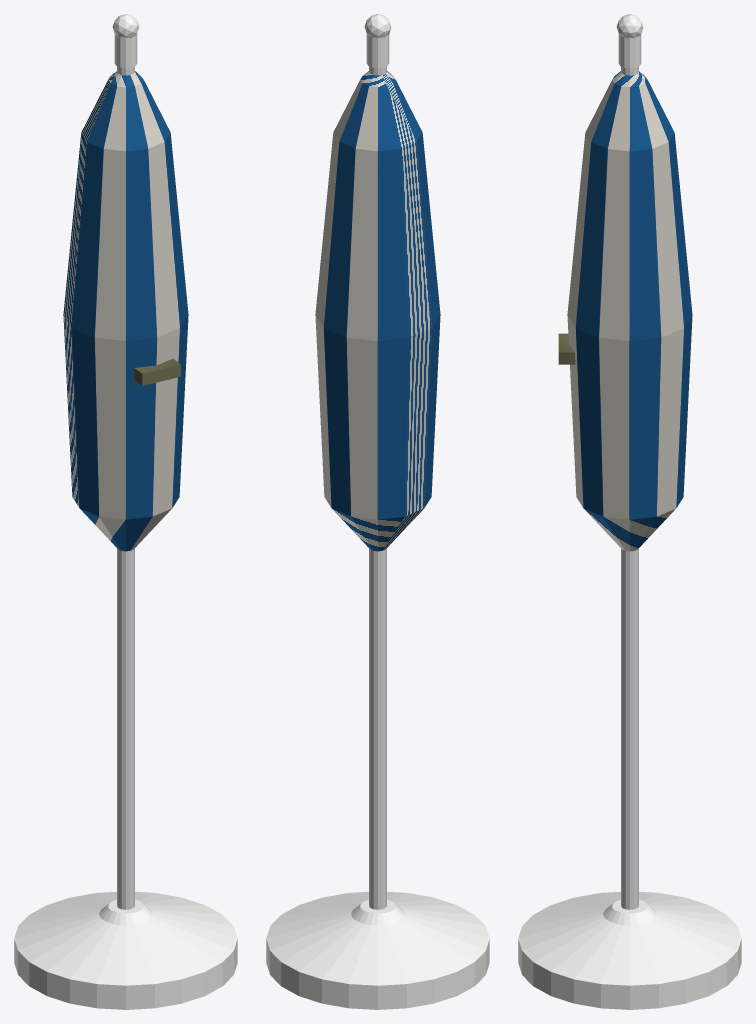
Rendered from guarda_sol.glb.
3 renders of one model, left to right at view 1: azimuth 30°, elevation 25°; view 2: azimuth 150°, elevation 25°; view 3: azimuth 270°, elevation 25°, orthographic.
Parts seen in each view (by area): view 1: guarda_sol_lona_sol, guarda_sol_plastico_branco, guarda_sol_aco_polido, guarda_sol_lona; view 2: guarda_sol_lona_sol, guarda_sol_plastico_branco, guarda_sol_aco_polido; view 3: guarda_sol_lona_sol, guarda_sol_plastico_branco, guarda_sol_aco_polido.
Boxes of the visible parts, left/top/right/bottom form: guarda_sol_lona_sol: left=63, top=71, right=188, bottom=551; guarda_sol_plastico_branco: left=14, top=14, right=237, bottom=1009; guarda_sol_aco_polido: left=117, top=66, right=134, bottom=909; guarda_sol_lona: left=134, top=358, right=180, bottom=385; guarda_sol_lona_sol: left=315, top=71, right=440, bottom=551; guarda_sol_plastico_branco: left=266, top=14, right=489, bottom=1009; guarda_sol_aco_polido: left=369, top=66, right=386, bottom=909; guarda_sol_lona_sol: left=567, top=71, right=692, bottom=551; guarda_sol_plastico_branco: left=518, top=14, right=741, bottom=1009; guarda_sol_aco_polido: left=621, top=66, right=638, bottom=909.
Size of the model in its own units: 0.5 by 2.34 by 0.5.
5 materials, 2 textured.
